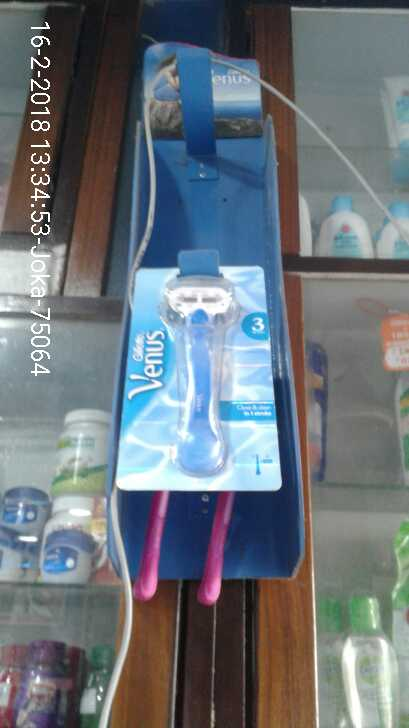venus: (131, 259, 277, 499)
